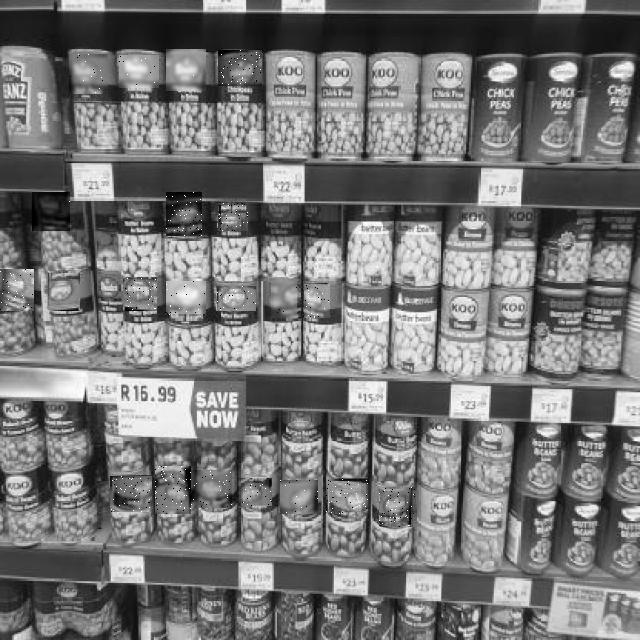Beans: (155, 466, 191, 514), (166, 49, 206, 91), (326, 478, 371, 514), (166, 192, 202, 236), (218, 51, 262, 87), (69, 54, 108, 94), (191, 470, 232, 508), (110, 476, 152, 512), (32, 192, 70, 231), (380, 487, 416, 527), (0, 269, 34, 311), (166, 282, 206, 316), (119, 56, 159, 90), (280, 481, 318, 515), (48, 271, 80, 311), (123, 277, 157, 311), (271, 279, 297, 318), (216, 286, 256, 311), (239, 479, 273, 507), (304, 284, 330, 318), (218, 203, 248, 231)
